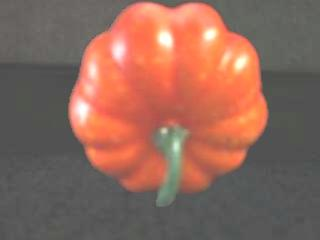Pumpkin: (69, 4, 268, 204)
